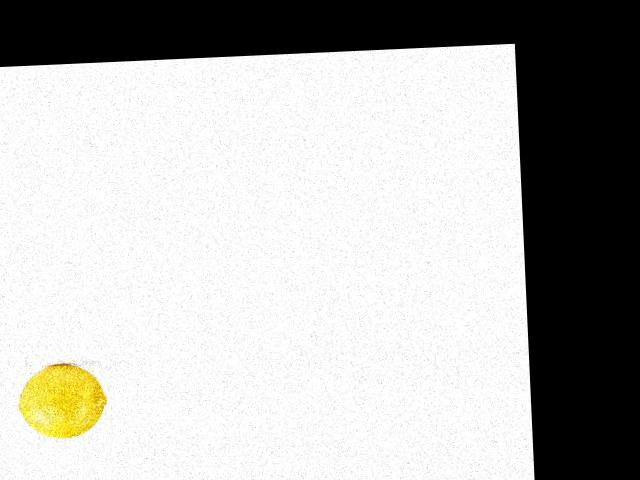lemon: (7, 360, 121, 442)
